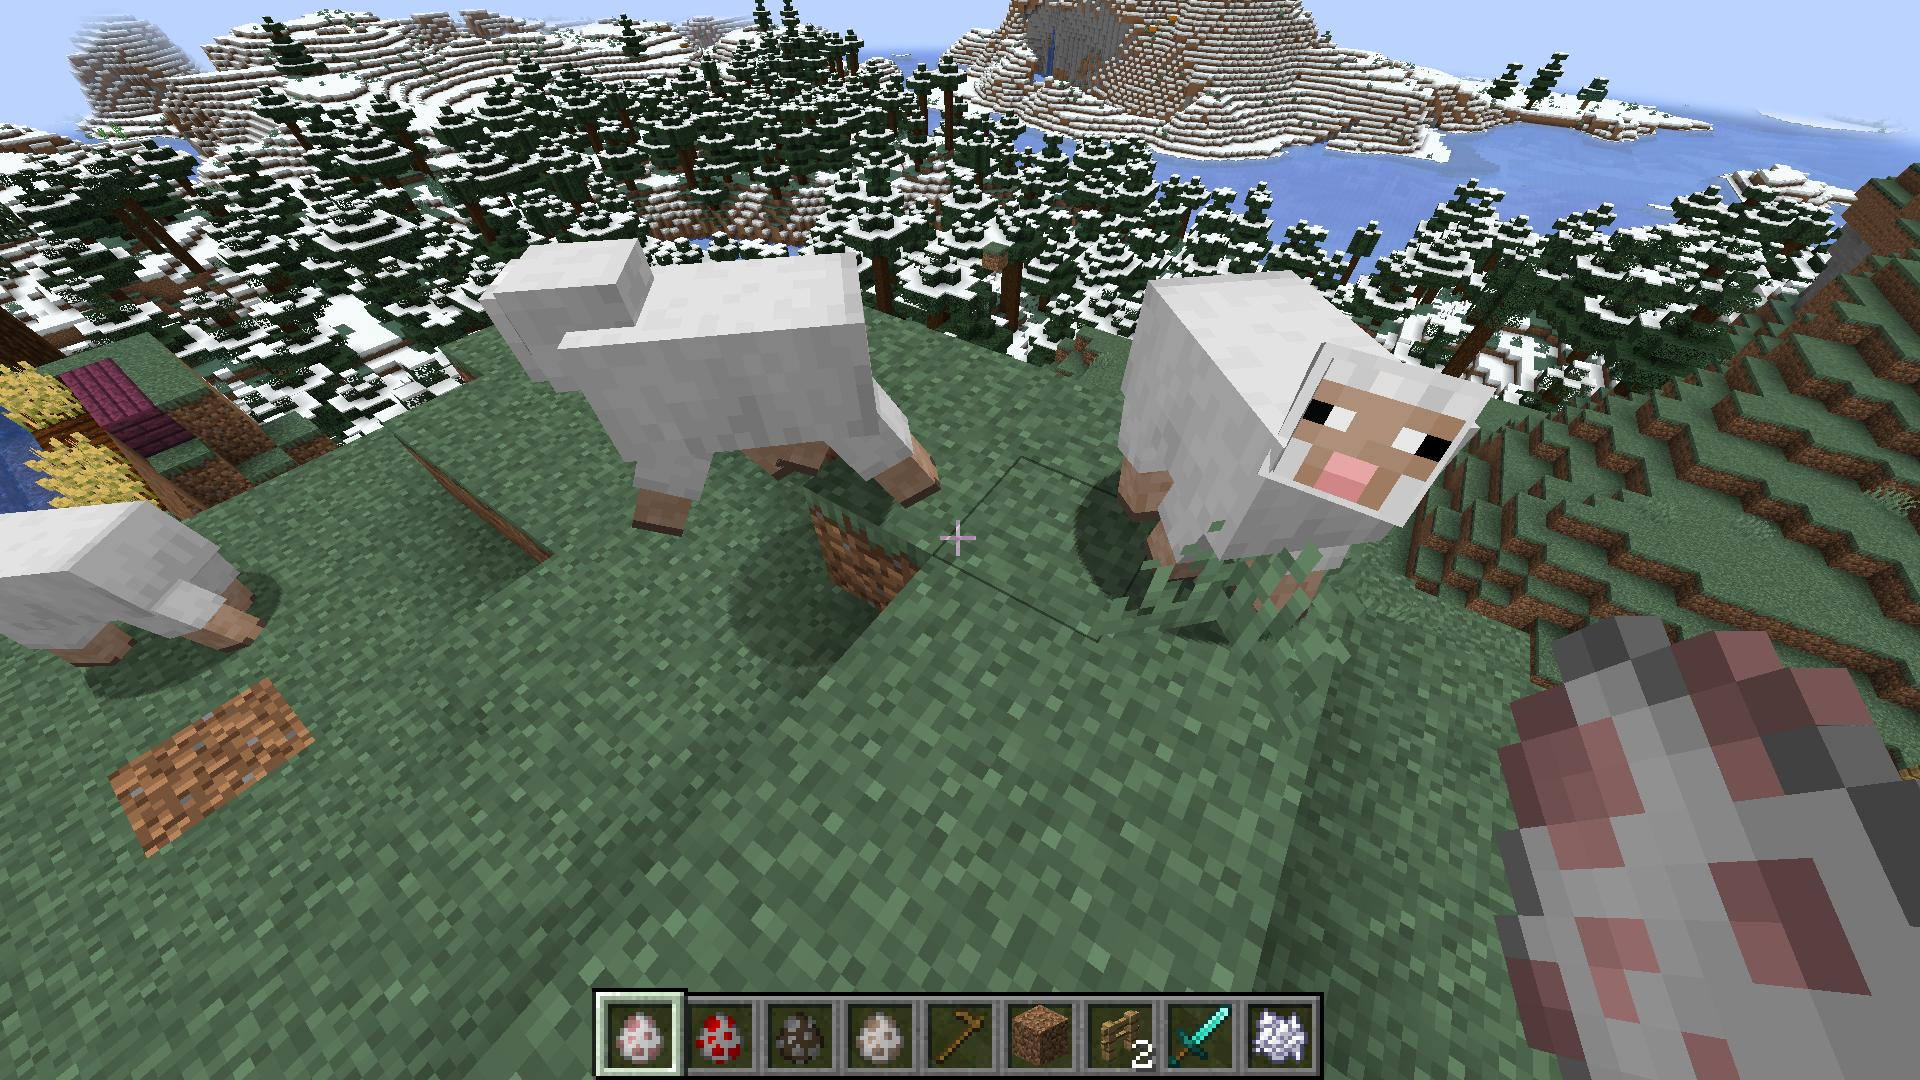sheep: (476, 235, 945, 539), (1110, 262, 1501, 622)
